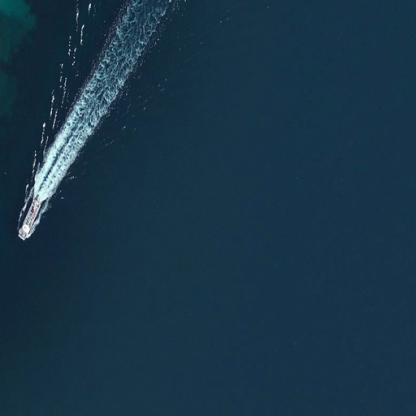ship: (15, 196, 41, 243)
